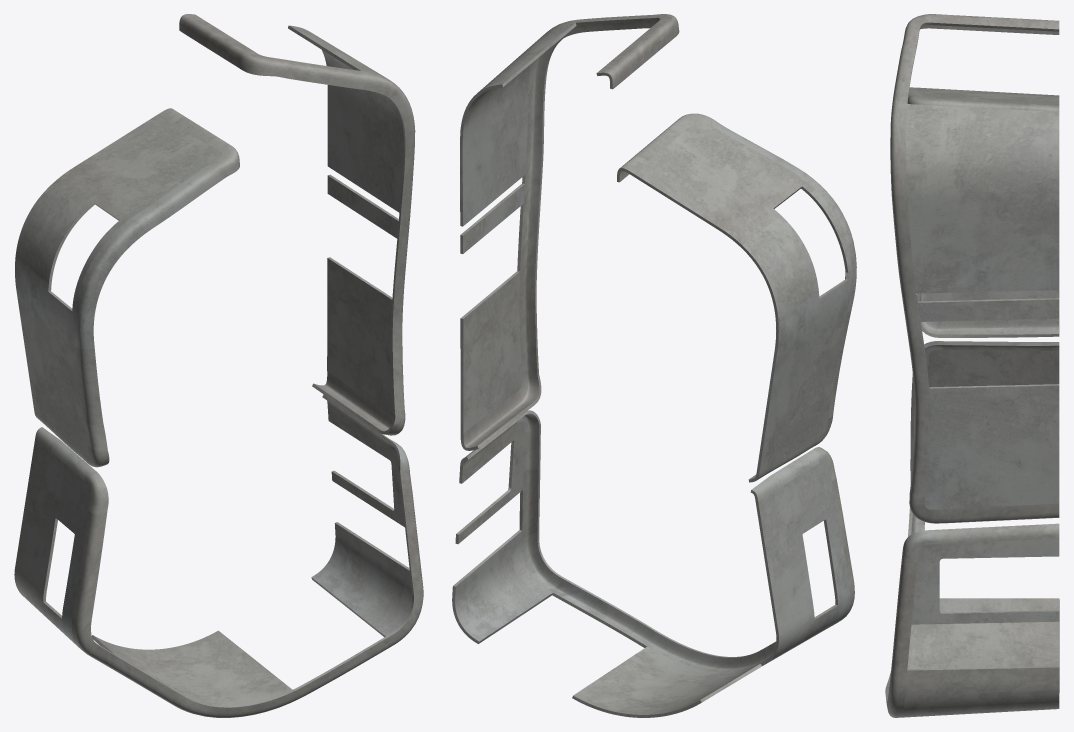
The model's file is FutureHouse10.gltf.
3 views of the same model, side by side, from view 1: azimuth 30°, elevation 25°; view 2: azimuth 150°, elevation 25°; view 3: azimuth 270°, elevation 25° (orthographic). The views are drawn at different scales.
Bounding box in the file's own units: 3.23 × 5.94 × 1.39.
Materials: 1 (1 with a texture image).
